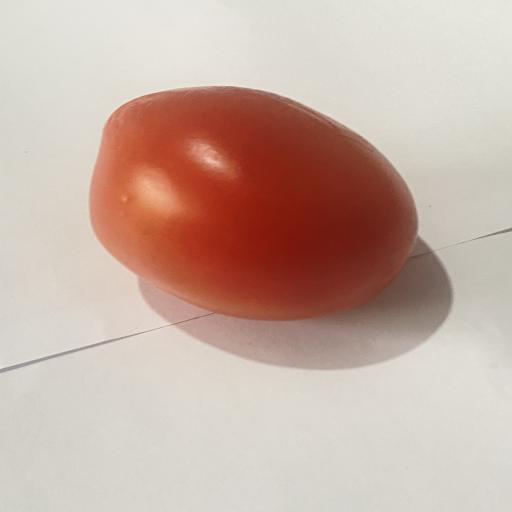ripe: (90, 87, 417, 319)
